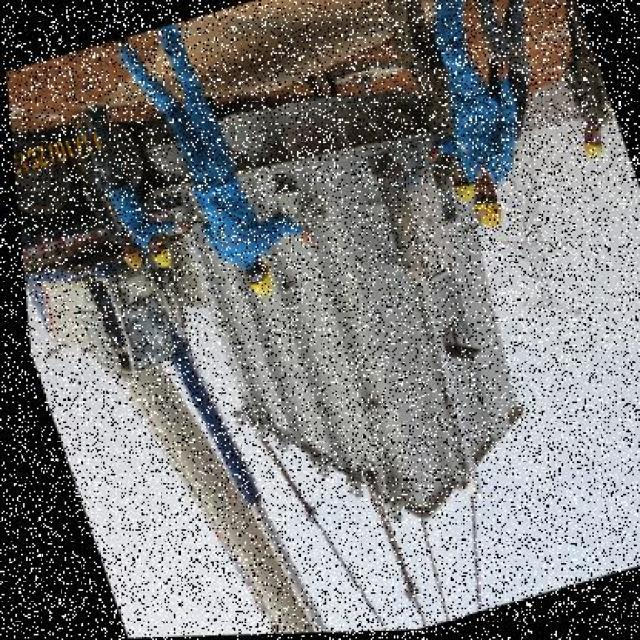helmet: (231, 252, 276, 306), (462, 191, 507, 238)
